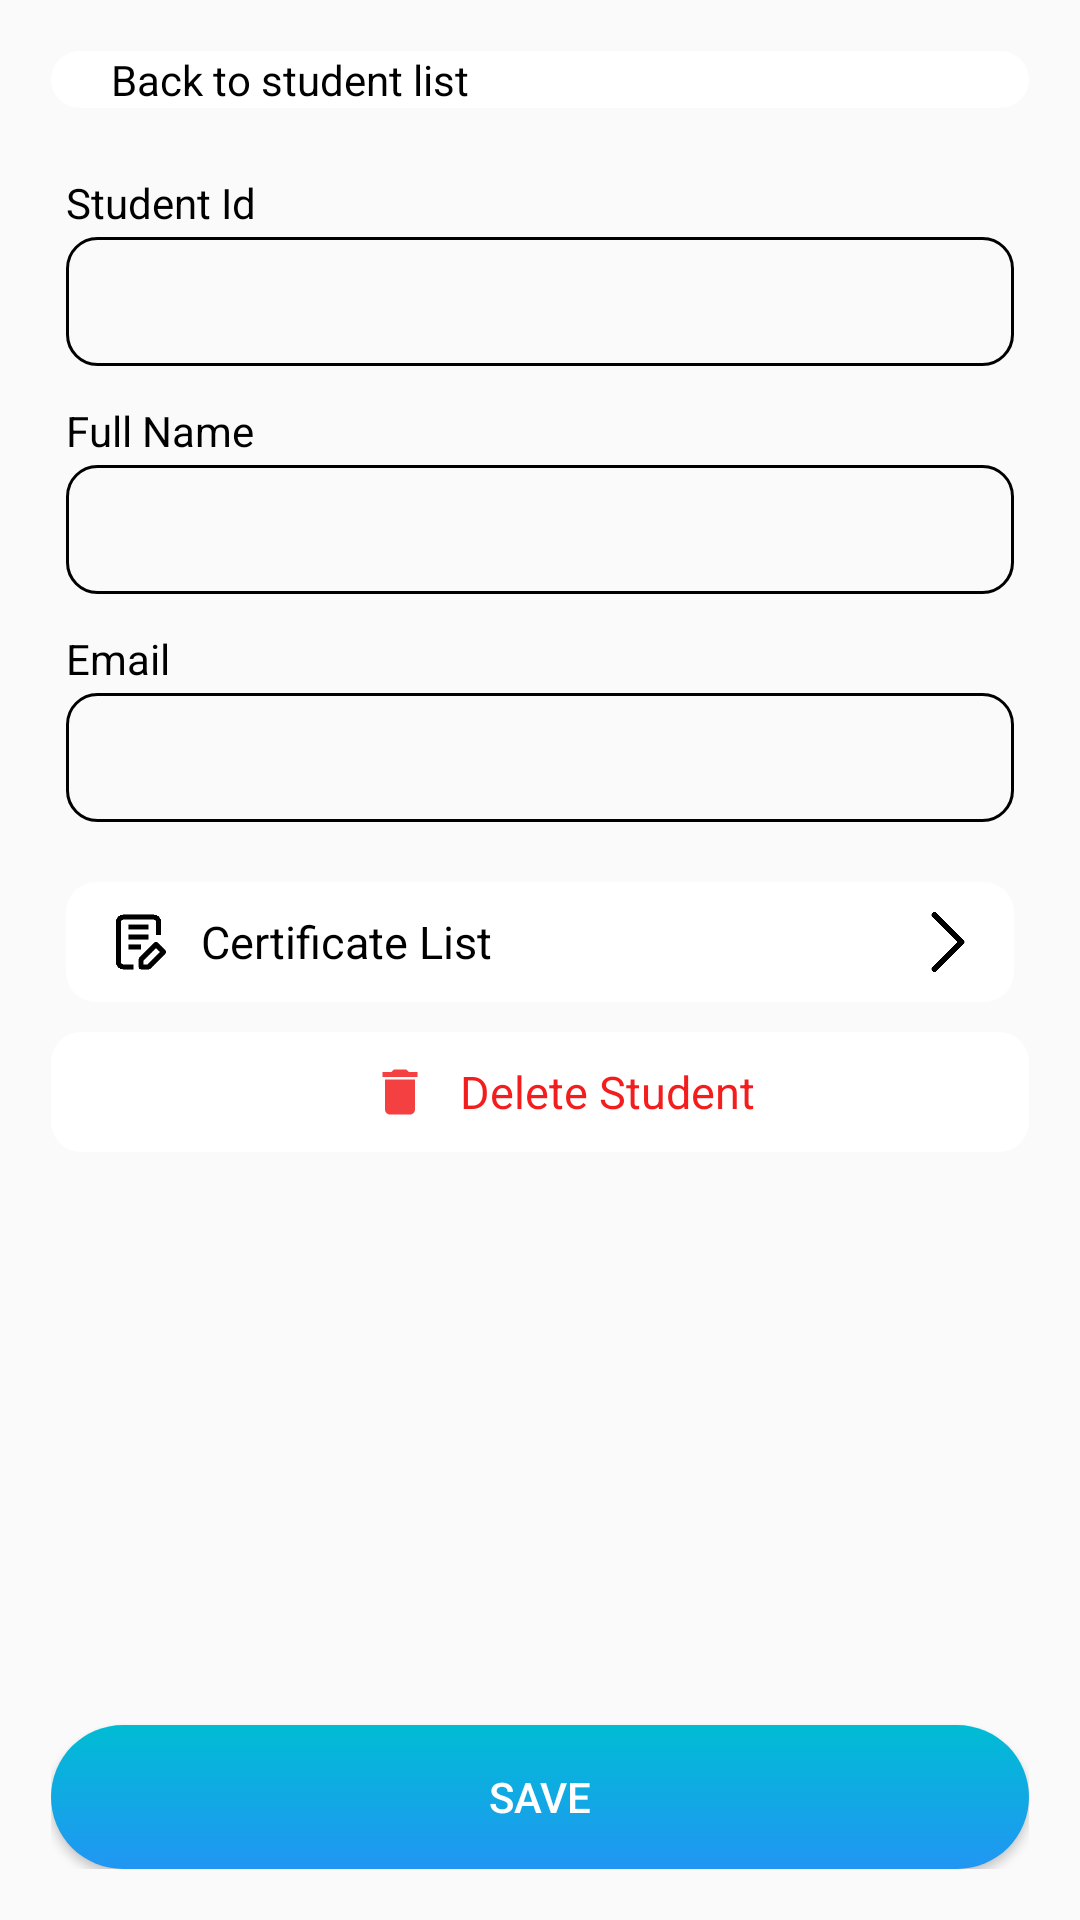

Named icons in this screenshot (1080px×1920px) and their bounding boxes, region(x1, y1, x2, y2):
forward: region(931, 912, 965, 972)
